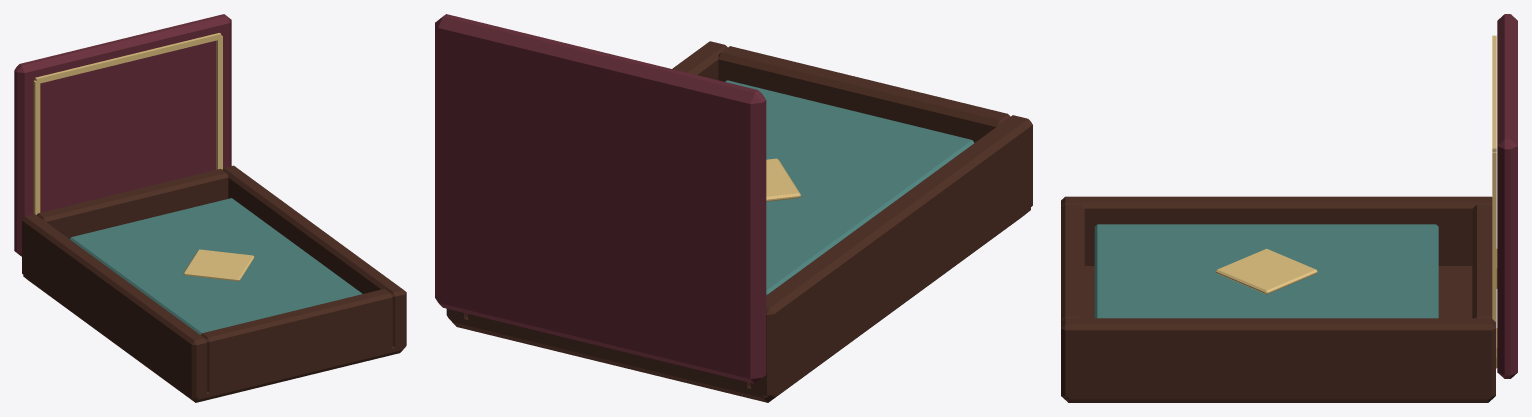
File: wizard_card_casket.glb
3 views of the same model, side by side, from view 1: azimuth 30°, elevation 25°; view 2: azimuth 150°, elevation 25°; view 3: azimuth 270°, elevation 25° (orthographic). The views are drawn at different scales.
Parts seen in each view (by area): view 1: wizard_card_casket_Static; view 2: wizard_card_casket_Static; view 3: wizard_card_casket_Static.
Part boxes in pixels (box(x1,y1,x2,y2)): wizard_card_casket_Static: box(14, 14, 406, 402); wizard_card_casket_Static: box(435, 14, 1032, 402); wizard_card_casket_Static: box(1061, 14, 1517, 402).
Size of the model in its own units: 1.06 by 0.99 by 1.56.
